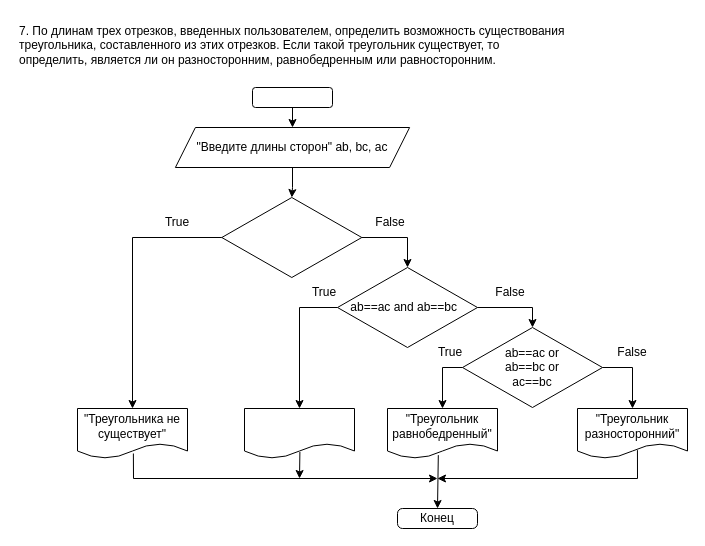
This 705x546 diagram has some shape labels left out. The shapes that lost their labels are listed below. From the top down, each one's box as (x1, y1, x2, y2) in pixels, then its label:
(252, 86, 332, 108): Начало
(221, 196, 362, 278): ab+bc<ac or bc+ac<ab or ac+ab<bc
(244, 408, 354, 458): "Треугольник равносторонний"
